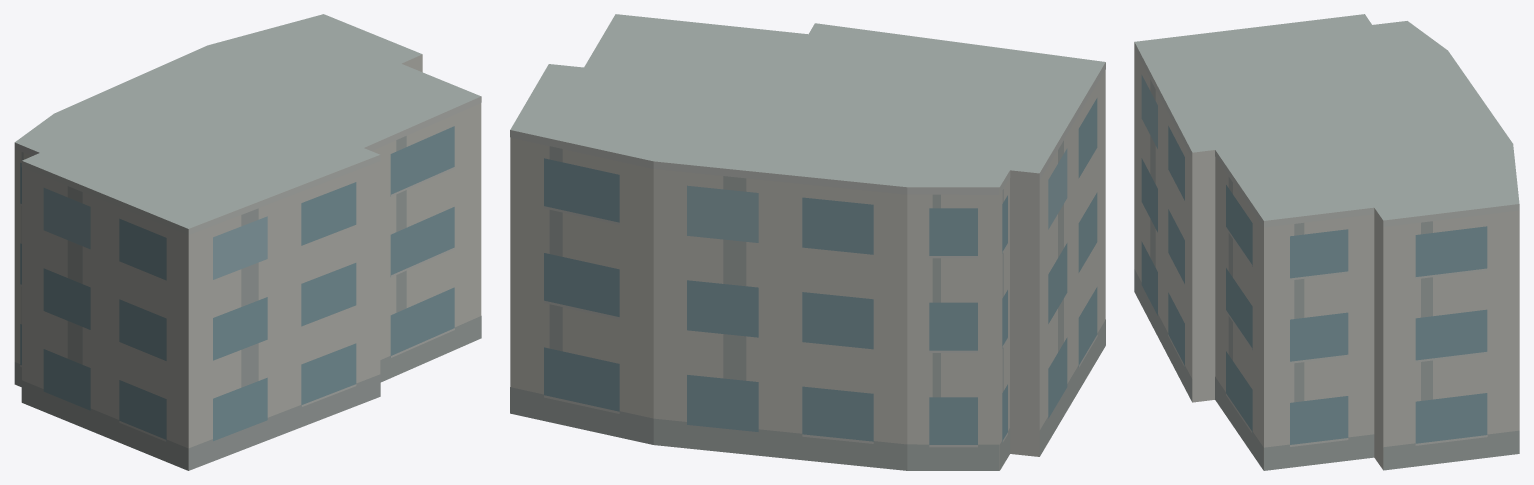
Rendered from residential-5f56f346-3160-49ba-8cd8-5dfe5f9a17fb.glb.
3 views of the same model, side by side, from view 1: azimuth 30°, elevation 25°; view 2: azimuth 150°, elevation 25°; view 3: azimuth 270°, elevation 25° (orthographic). The views are drawn at different scales.
Parts seen in each view (by area): view 1: residential-5f56f346-3160-49ba-8cd8-5dfe5f9a17fb.tmp; view 2: residential-5f56f346-3160-49ba-8cd8-5dfe5f9a17fb.tmp; view 3: residential-5f56f346-3160-49ba-8cd8-5dfe5f9a17fb.tmp.
Boxes of the visible parts, x1,y1,x2,y2 form: residential-5f56f346-3160-49ba-8cd8-5dfe5f9a17fb.tmp: (14, 14, 481, 470); residential-5f56f346-3160-49ba-8cd8-5dfe5f9a17fb.tmp: (510, 14, 1105, 470); residential-5f56f346-3160-49ba-8cd8-5dfe5f9a17fb.tmp: (1134, 14, 1519, 470).
Bounding box in the file's own units: 16.26 × 9.15 × 12.79.
